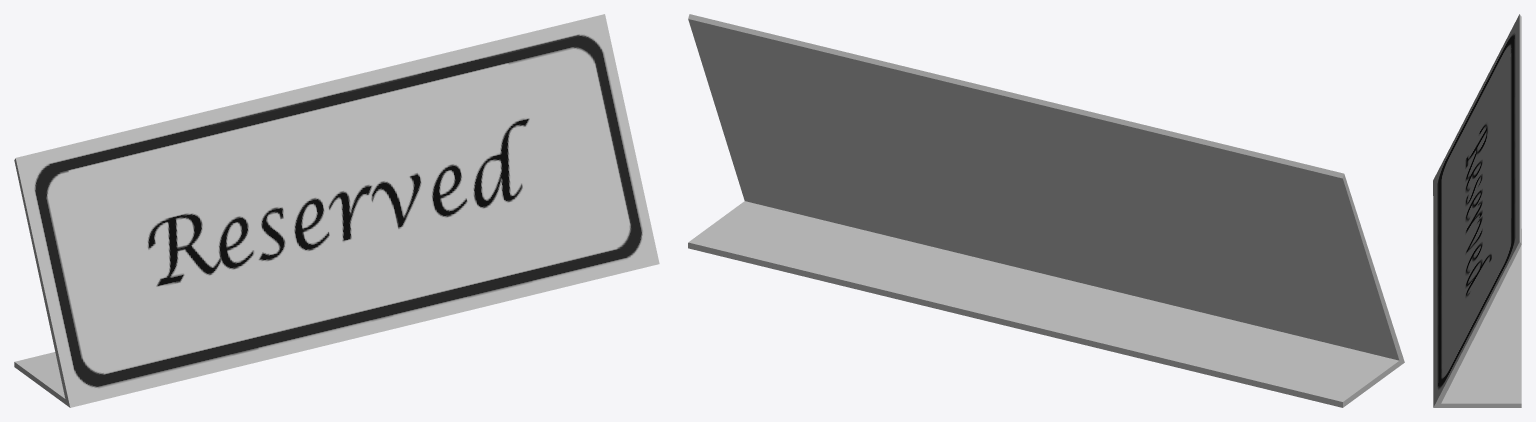
The model's file is TableCards01_2.FBX.
3 views of the same model, side by side, from view 1: azimuth 30°, elevation 25°; view 2: azimuth 150°, elevation 25°; view 3: azimuth 270°, elevation 25° (orthographic). The views are drawn at different scales.
Parts seen in each view (by area): view 1: TableCards01_2; view 2: TableCards01_2; view 3: TableCards01_2.
Boxes of the visible parts, <box> form: TableCards01_2: <box>14,14,659,407</box>; TableCards01_2: <box>688,14,1404,407</box>; TableCards01_2: <box>1433,14,1521,407</box>.
Bounding box in the file's own units: 25 × 8.51 × 4.12.
